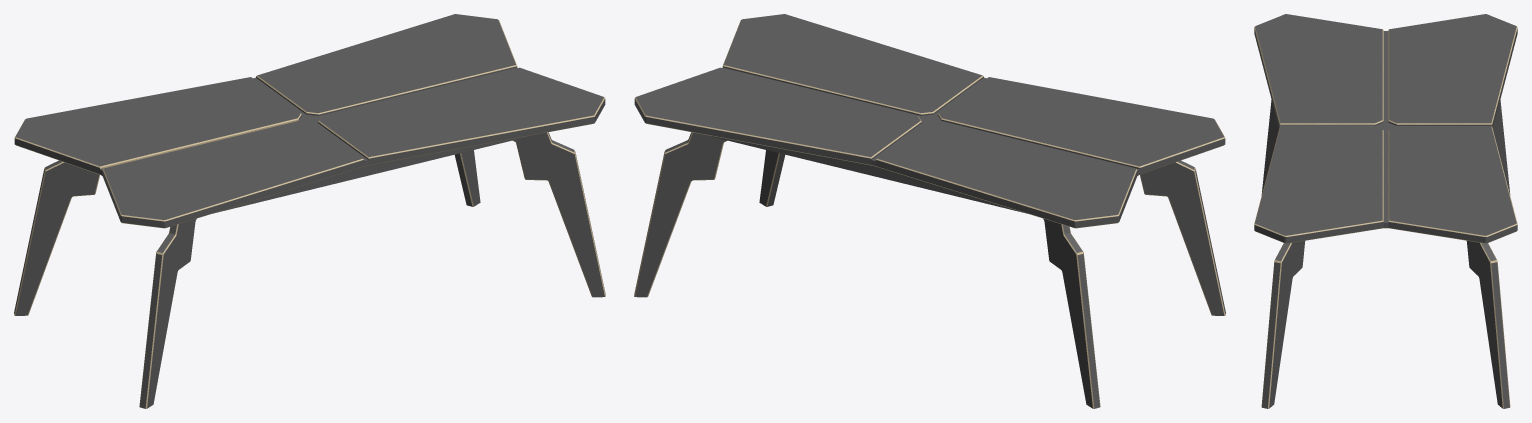
Rendered from ModernTable.dae.
3 renders of one model, left to right at view 1: azimuth 30°, elevation 25°; view 2: azimuth 150°, elevation 25°; view 3: azimuth 270°, elevation 25°, orthographic. The views are drawn at different scales.
Visible parts, largest first — view 1: group_2 (×6), group_1 (×8); view 2: group_2 (×6), group_1 (×8); view 3: group_2 (×6), group_1 (×7).
Boxes of the visible parts, bbox=[...] form: group_2 (×6): bbox=[14, 14, 605, 408]; group_1 (×8): bbox=[14, 20, 605, 408]; group_2 (×6): bbox=[634, 14, 1225, 408]; group_1 (×8): bbox=[634, 20, 1225, 408]; group_2 (×6): bbox=[1254, 14, 1517, 408]; group_1 (×7): bbox=[1254, 26, 1517, 408].
Size of the model in its own units: 42.52 by 21.26 by 15.75.
3 materials, 2 textured.
